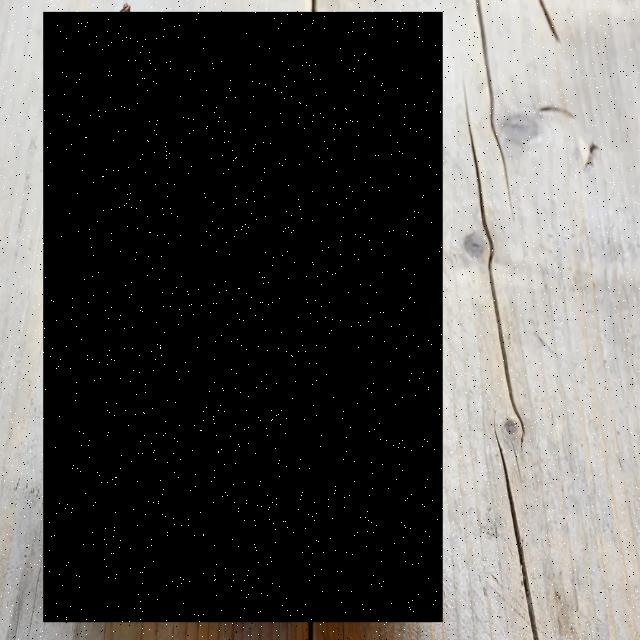Banana: (43, 12, 443, 622)
